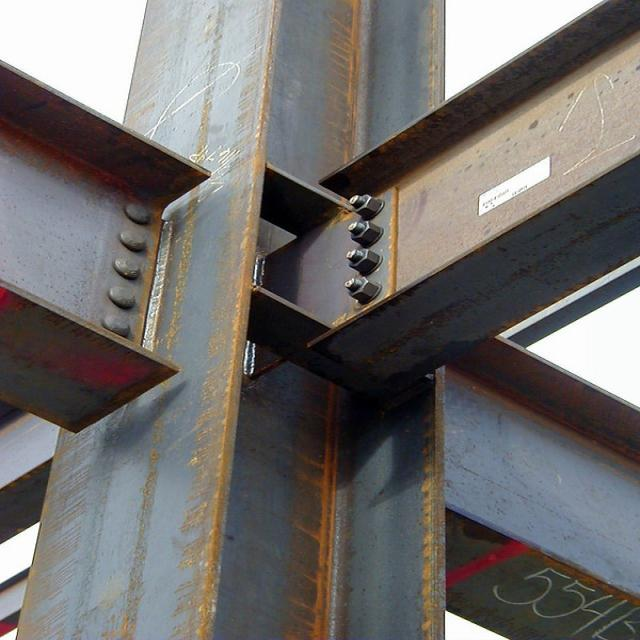bolt nut: (342, 276, 379, 302), (345, 221, 382, 246), (346, 247, 378, 273), (348, 193, 381, 217)
